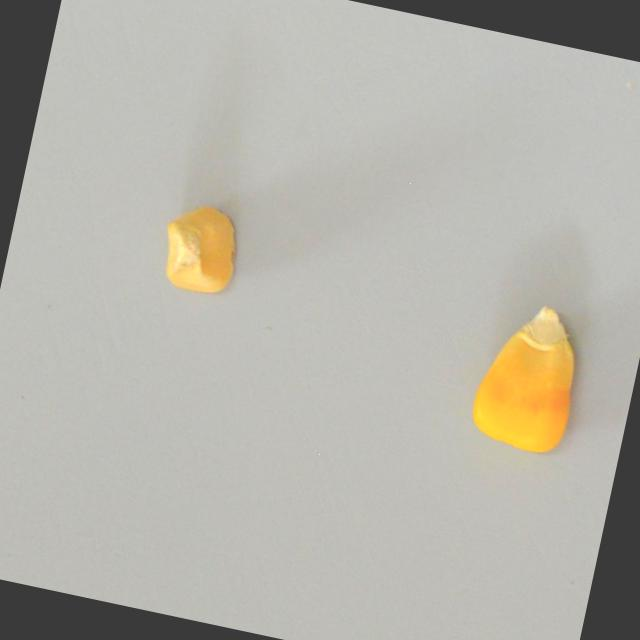entero: (420, 263, 618, 490), (144, 183, 256, 303)
